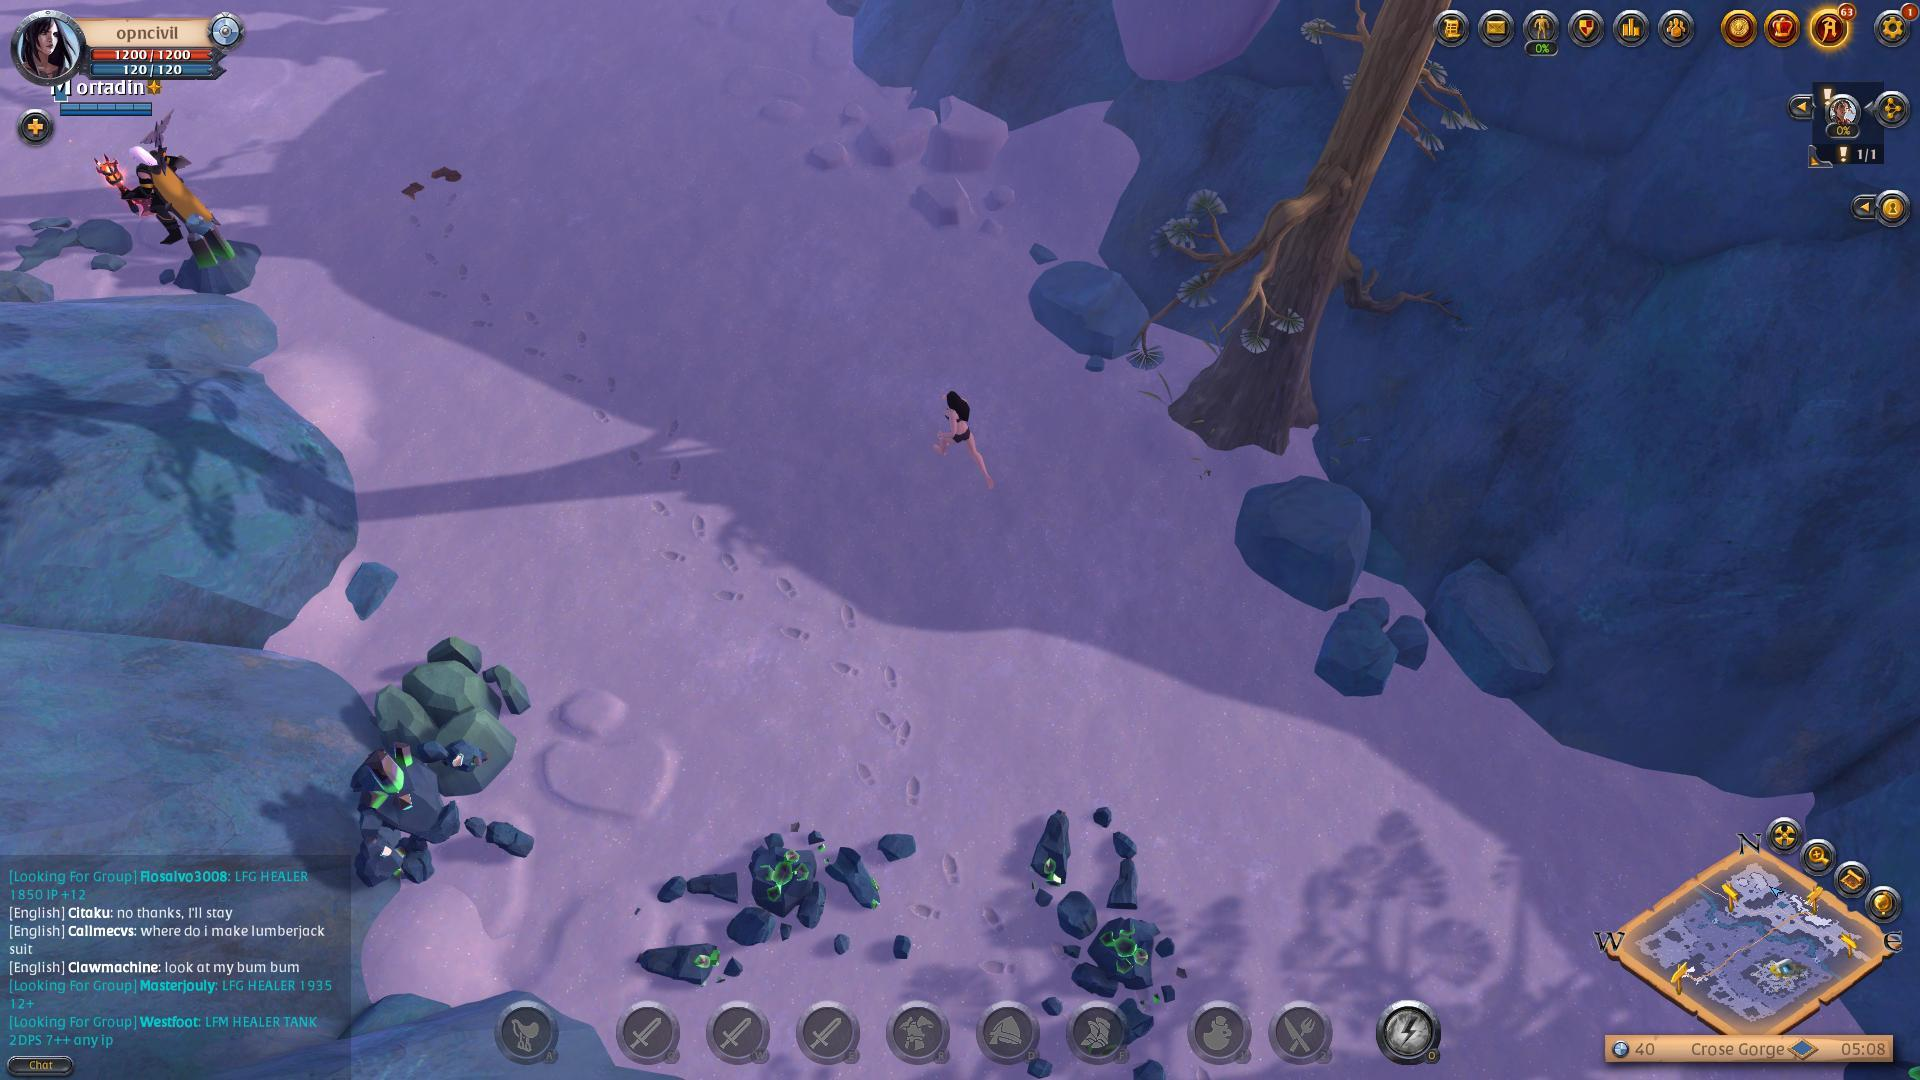sandstone: (360, 629, 524, 793)
tin_ore: (171, 220, 261, 298)
